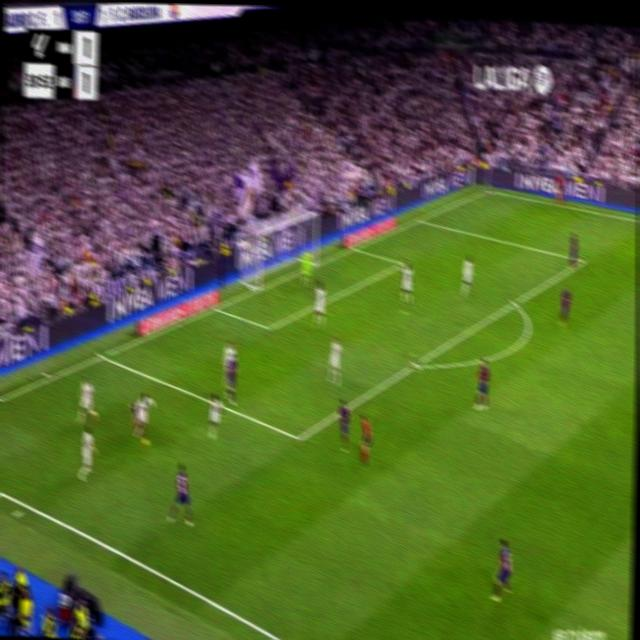bigarea_bottom_inner: (293, 424, 306, 449)
bigarea_bottom_outter: (96, 346, 108, 362)
bigarea_top_inner: (579, 250, 587, 268)
bottom_arc_area_intersection: (410, 353, 422, 373)
corner: (481, 183, 492, 194)
smallarea_bottom_inner: (265, 318, 275, 336)
smallarea_top_inner: (398, 255, 406, 270)
top_arc_area_intersection: (509, 294, 519, 310)
